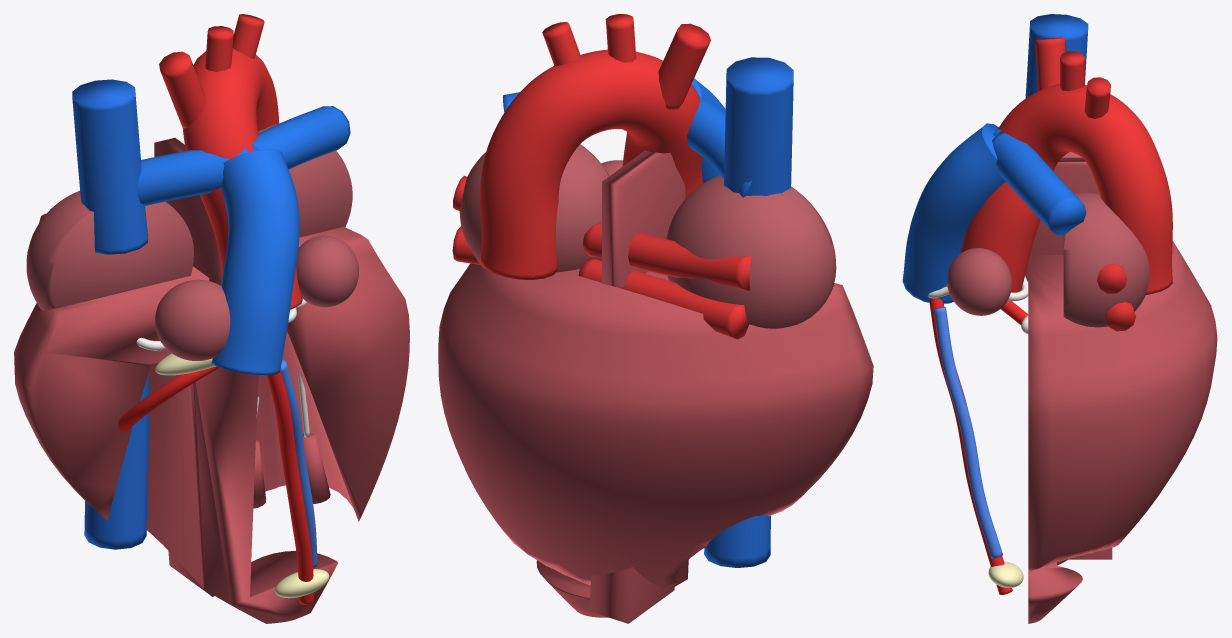
Rendered from human-heart.glb.
3 views of the same model, side by side, from view 1: azimuth 30°, elevation 25°; view 2: azimuth 150°, elevation 25°; view 3: azimuth 270°, elevation 25° (orthographic). The views are drawn at different scales.
Parts seen in each view (by area): view 1: human-heart-ventricles, human-heart-pulmonary-trunk, human-heart-right-atrium, human-heart-svc, human-heart-aorta-arch, human-heart-right-auricle, human-heart-ivc, human-heart-left-atrium, human-heart-pulmonary-art-right, human-heart-left-auricle, human-heart-pulmonary-art-left, human-heart-lad-artery (+10 smaller); view 2: human-heart-ventricles, human-heart-aorta-arch, human-heart-right-atrium, human-heart-svc, human-heart-interatrial-septum, human-heart-left-atrium, human-heart-pulm-vein-rs, human-heart-pulm-vein-ri, human-heart-interventricular-septum, human-heart-brachiocephalic, human-heart-ivc, human-heart-pulmonary-art-right (+3 smaller); view 3: human-heart-ventricles, human-heart-aorta-arch, human-heart-pulmonary-trunk, human-heart-left-atrium, human-heart-pulmonary-art-left, human-heart-left-auricle, human-heart-cardiac-vein, human-heart-svc, human-heart-interatrial-septum, human-heart-brachiocephalic, human-heart-lad-artery, human-heart-left-carotid (+4 smaller).
Part boxes in pixels (box(x1,y1,x2,y2)): human-heart-ventricles: box(14, 227, 409, 623); human-heart-pulmonary-trunk: box(211, 149, 299, 375); human-heart-right-atrium: box(26, 190, 193, 310); human-heart-svc: box(72, 79, 147, 254); human-heart-aorta-arch: box(182, 48, 302, 309); human-heart-right-auricle: box(155, 279, 230, 360); human-heart-ivc: box(84, 373, 148, 549); human-heart-left-atrium: box(258, 124, 352, 237); human-heart-pulmonary-art-right: box(137, 147, 248, 205); human-heart-left-auricle: box(296, 235, 358, 307); human-heart-pulmonary-art-left: box(252, 106, 350, 169); human-heart-lad-artery: box(266, 370, 313, 605); human-heart-ventricles: box(438, 263, 873, 617); human-heart-aorta-arch: box(480, 49, 702, 279); human-heart-right-atrium: box(666, 175, 836, 328); human-heart-svc: box(724, 57, 793, 195); human-heart-interatrial-septum: box(602, 150, 685, 287); human-heart-left-atrium: box(459, 144, 609, 272); human-heart-pulm-vein-rs: box(582, 222, 751, 290); human-heart-pulm-vein-ri: box(578, 257, 749, 339); human-heart-interventricular-septum: box(588, 567, 674, 623); human-heart-brachiocephalic: box(658, 23, 710, 109); human-heart-ivc: box(704, 515, 770, 567); human-heart-pulmonary-art-right: box(687, 97, 751, 197); human-heart-ventricles: box(1028, 241, 1217, 623); human-heart-aorta-arch: box(960, 84, 1172, 294); human-heart-pulmonary-trunk: box(902, 123, 1005, 303); human-heart-left-atrium: box(1063, 192, 1149, 327); human-heart-pulmonary-art-left: box(992, 132, 1086, 235); human-heart-left-auricle: box(947, 248, 1012, 315); human-heart-cardiac-vein: box(933, 307, 1002, 558); human-heart-svc: box(1025, 14, 1088, 98); human-heart-interatrial-septum: box(1025, 157, 1099, 281); human-heart-brachiocephalic: box(1035, 37, 1066, 90); human-heart-lad-artery: box(929, 298, 1012, 594); human-heart-left-carotid: box(1060, 51, 1084, 91).
Bounding box in the file's own units: 0.0915 × 0.1348 × 0.0712.
